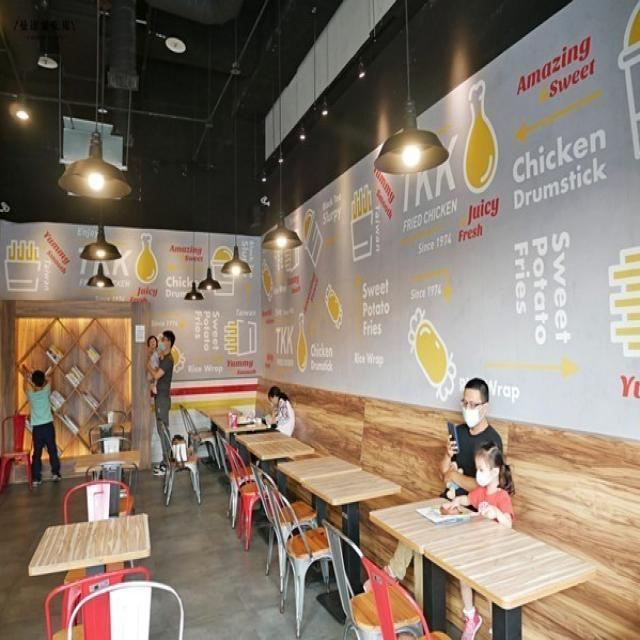table: (373, 502, 602, 640), (36, 476, 180, 640), (266, 452, 382, 631), (229, 426, 297, 530)
